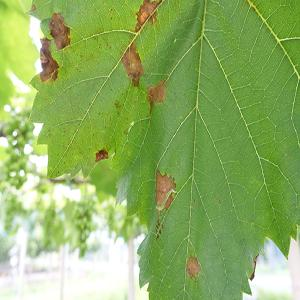Folha: (26, 0, 299, 298)
Fungo: (120, 0, 160, 87), (39, 12, 71, 82), (120, 41, 144, 87), (154, 170, 176, 216), (39, 36, 59, 82), (48, 12, 70, 50), (134, 0, 160, 32), (146, 78, 166, 116), (186, 255, 200, 282), (155, 79, 167, 103), (249, 252, 259, 280), (94, 147, 108, 162), (155, 219, 164, 239)
